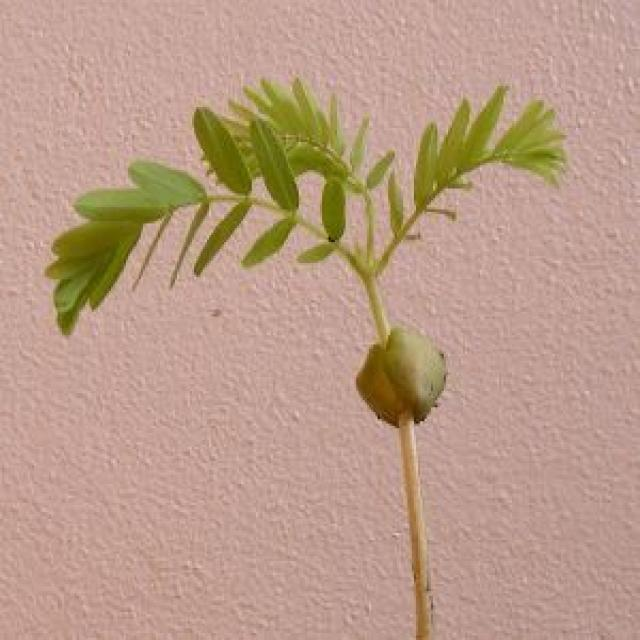Tamarind: (62, 89, 550, 418)
